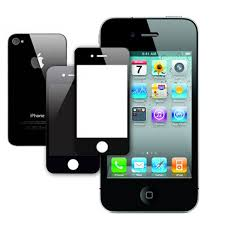iphone: (99, 14, 198, 214)
iphone4: (98, 14, 197, 214)
